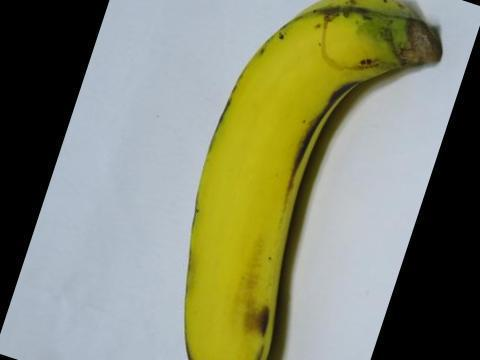freshripe: (176, 0, 445, 359)
